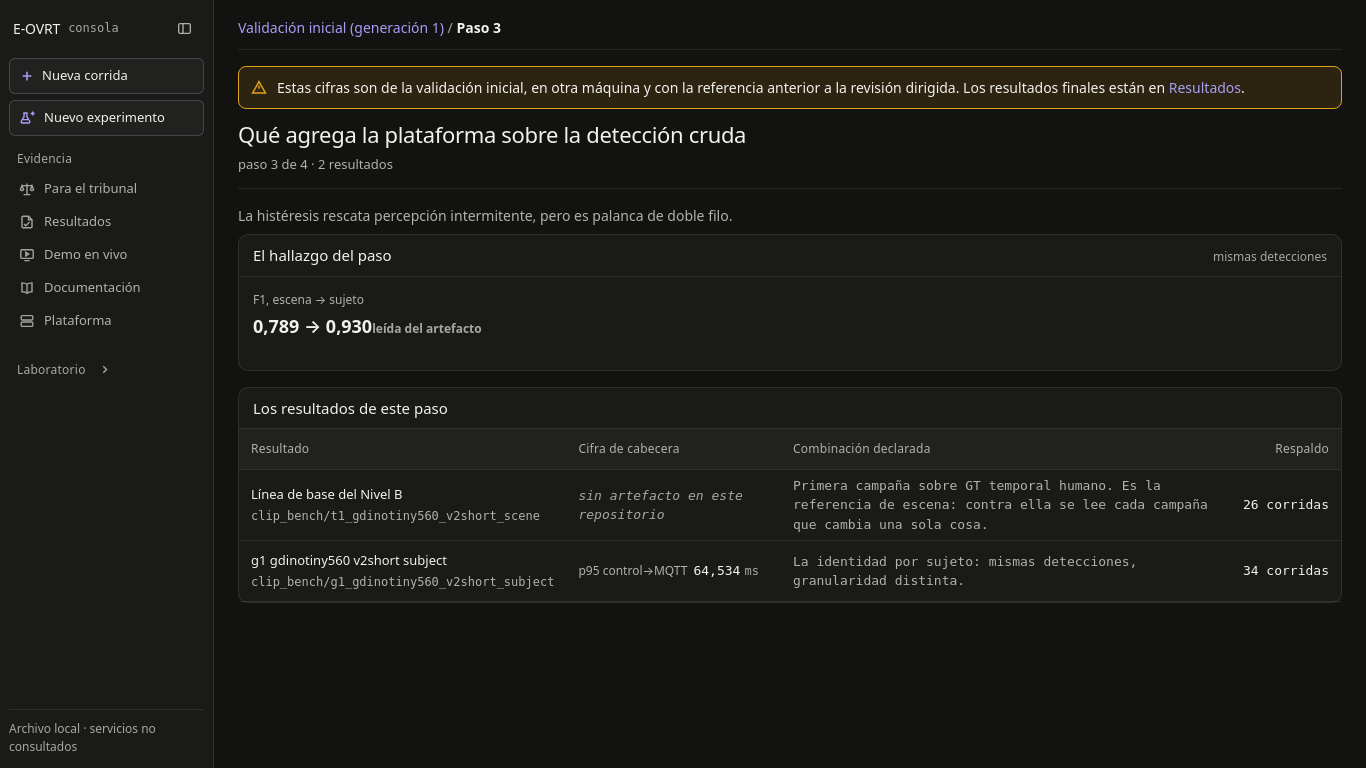
it: navega el recorrido paso → resultado → corrida, sin consultar servicios desde el Shell
Click the link "Línea de base del Nivel B" at (327, 494), box [251,485,403,503]
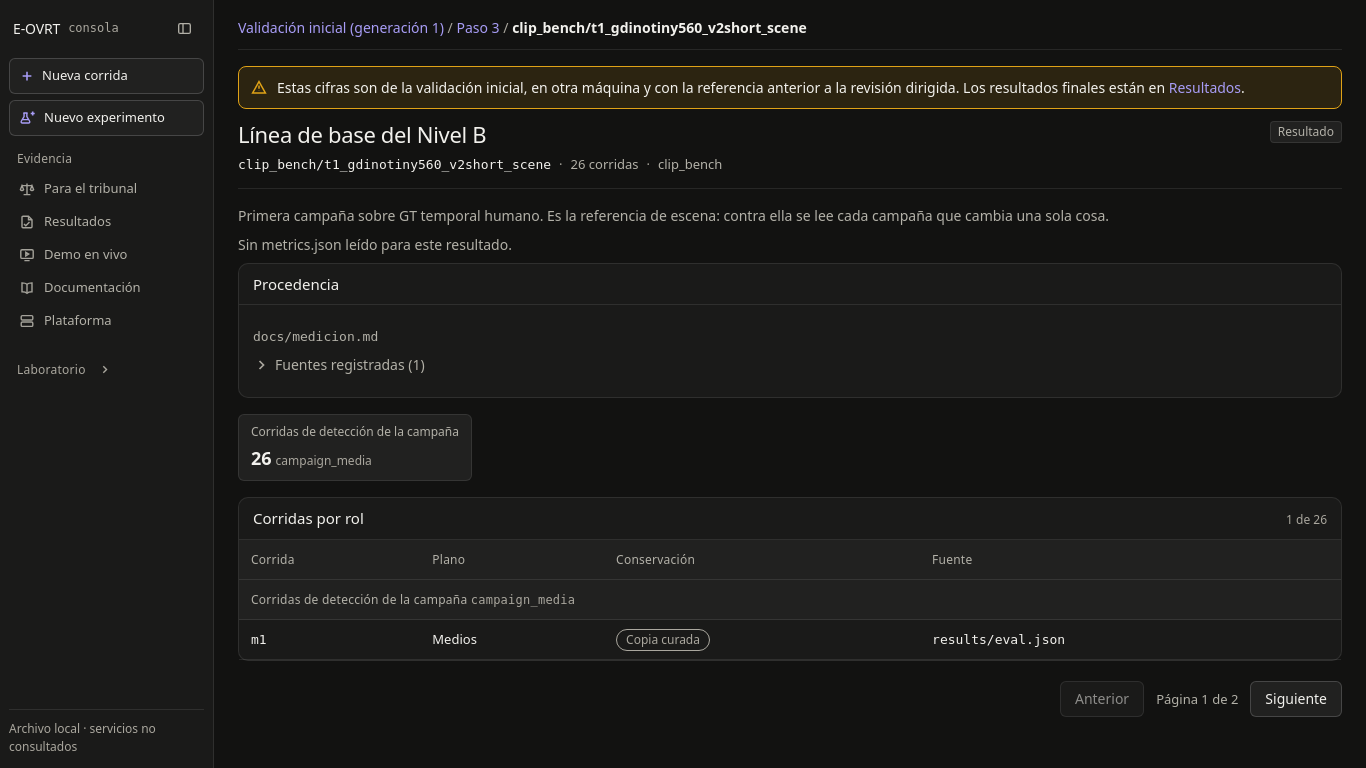
Expected: the list item "docs/medicion.md" is shown, [253,329,378,344]
Click the link "m1" at (259, 640), box [251,632,267,647]
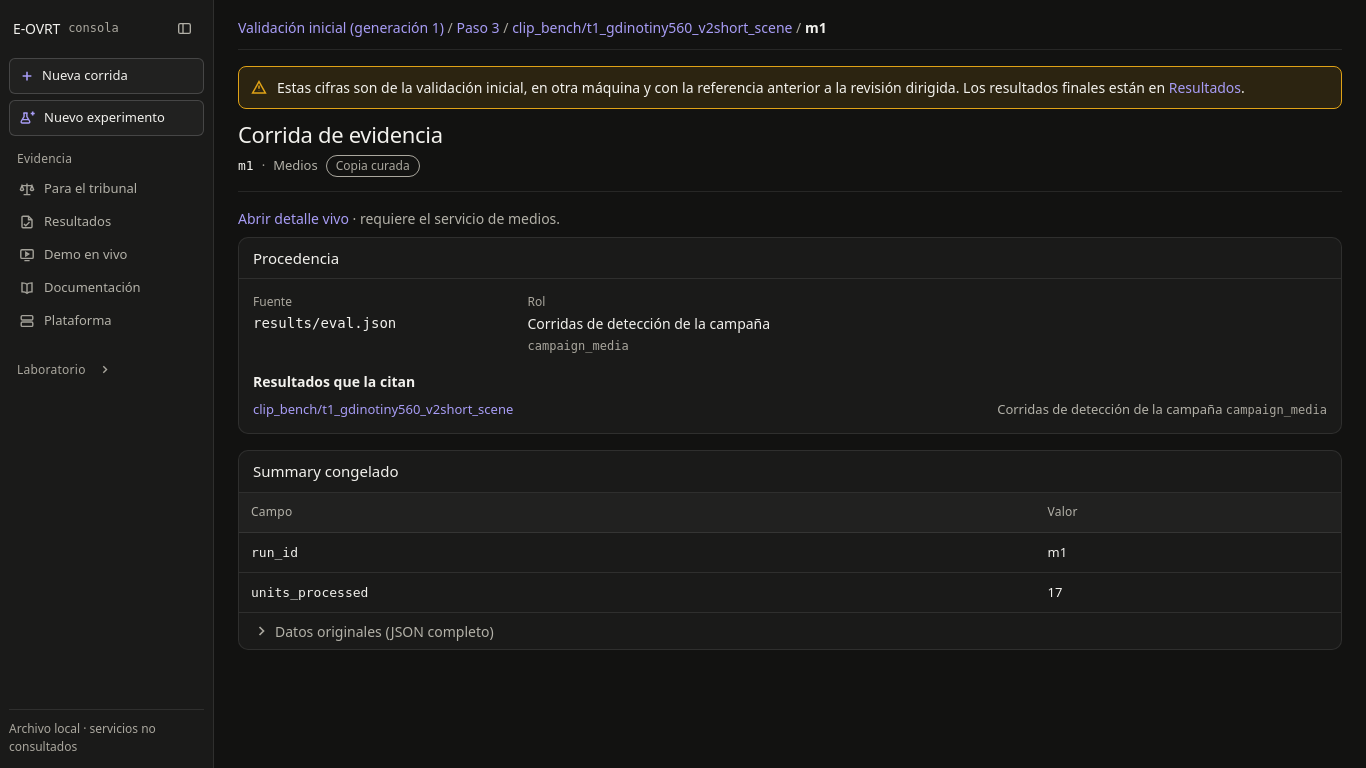
Expected: the link "clip_bench/t1_gdinotiny560_v2short_scene" next to "Paso 3" is shown, [512,18,792,37]
Expected: the heading "Summary congelado" is shown, [253,461,398,482]
Expected: the text "17" is shown, [1036,572,1341,612]
